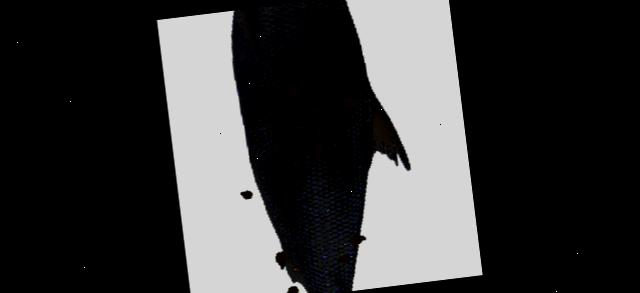Parasitic Disease: (233, 0, 409, 293)
